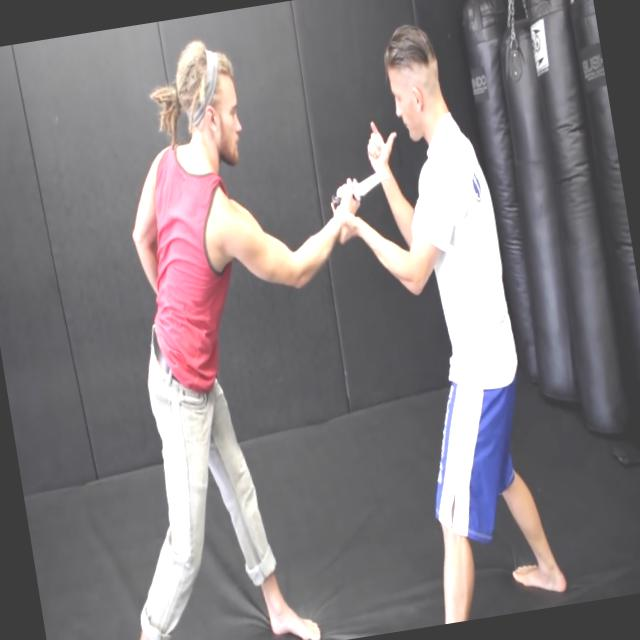knife: (318, 157, 399, 216)
